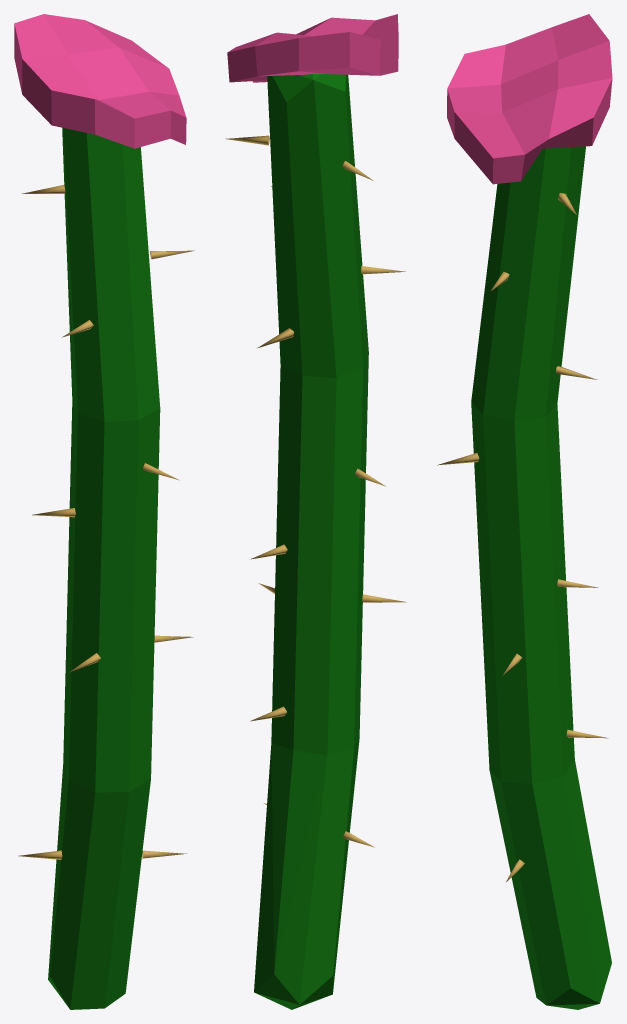
File: Cactus3.fbx
The picture shows the model from 3 angles, left to right: view 1: azimuth 30°, elevation 25°; view 2: azimuth 150°, elevation 25°; view 3: azimuth 270°, elevation 25°; orthographic projection. The views are drawn at different scales.
Parts seen in each view (by area): view 1: Cactus3, Flor; view 2: Cactus3, Flor; view 3: Cactus3, Flor.
Boxes of the visible parts, x1=… form: Cactus3: x1=48, y1=127, x2=160, y2=1009; Flor: x1=14, y1=14, x2=186, y2=148; Cactus3: x1=254, y1=74, x2=368, y2=1009; Flor: x1=227, y1=14, x2=398, y2=82; Cactus3: x1=471, y1=146, x2=611, y2=1009; Flor: x1=447, y1=14, x2=612, y2=184.
Size of the model in its own units: 88.31 by 567 by 93.73.
